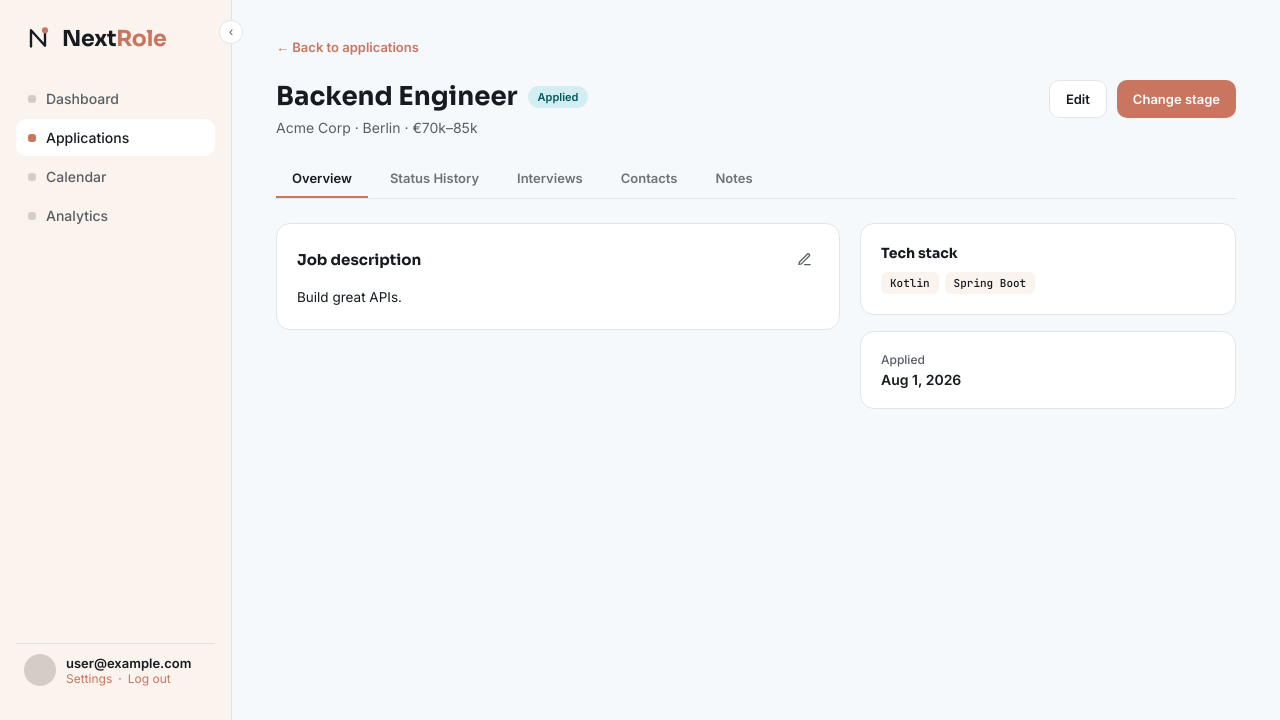
ApplicationDetailPage › edits the job description inline from the overview tab
The image size is (1280, 720).
Expected: the heading "Backend Engineer" is shown, [276, 80, 518, 113]
Click the button named "Edit" at {"x": 804, "y": 259}, box [789, 244, 819, 274]
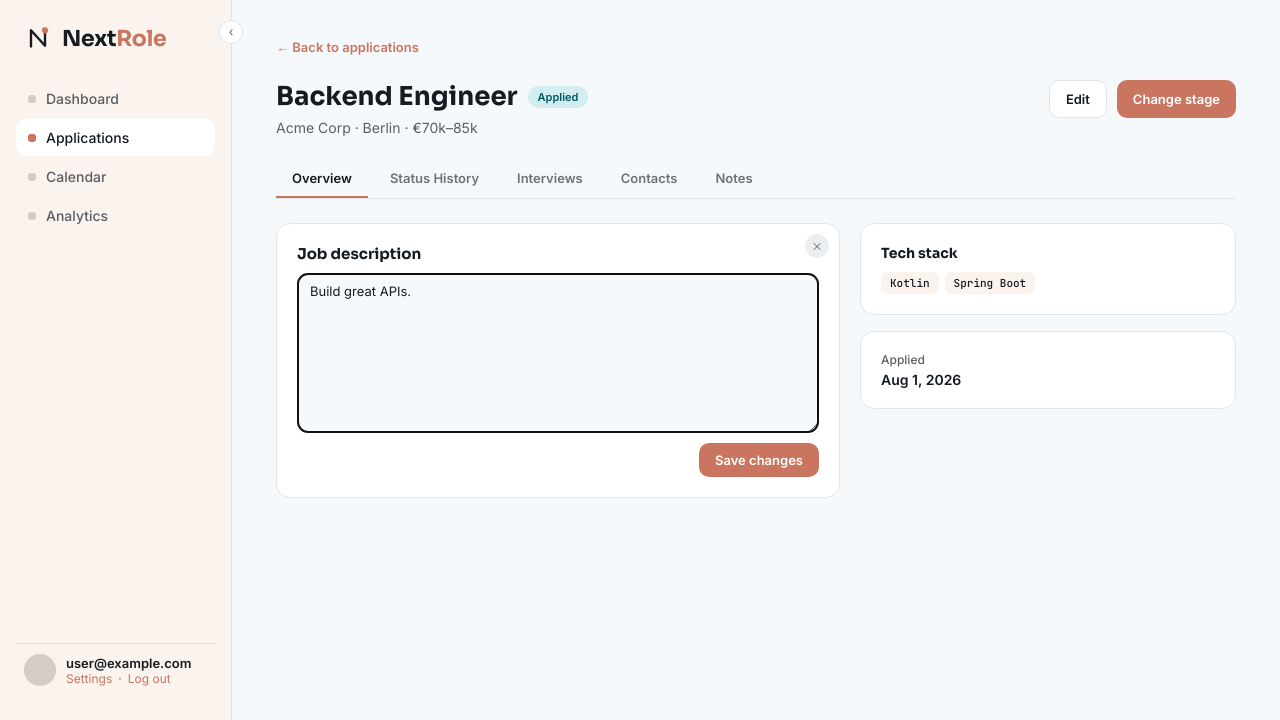
Replace the text in the text box showing "Build great APIs." with "Build great APIs, remotely." at {"x": 558, "y": 353}, box [297, 273, 819, 433]
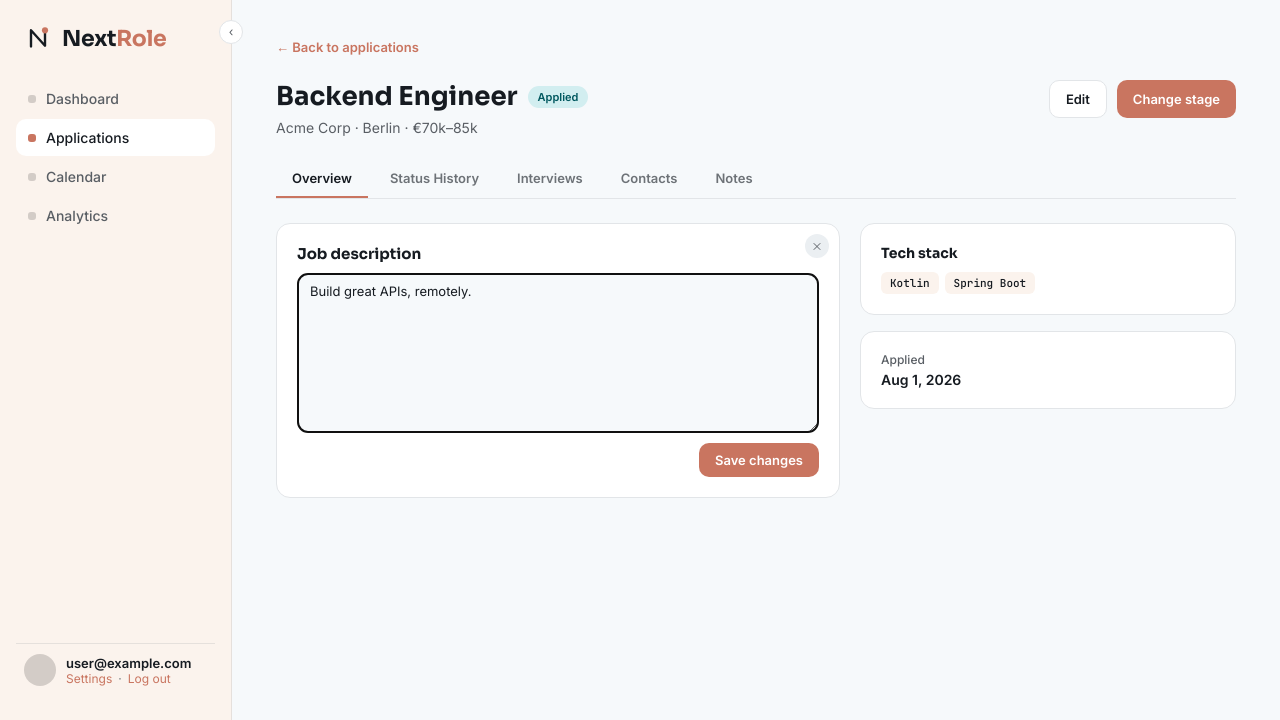
Click the button "Save changes" at {"x": 759, "y": 460}, box [699, 443, 819, 477]
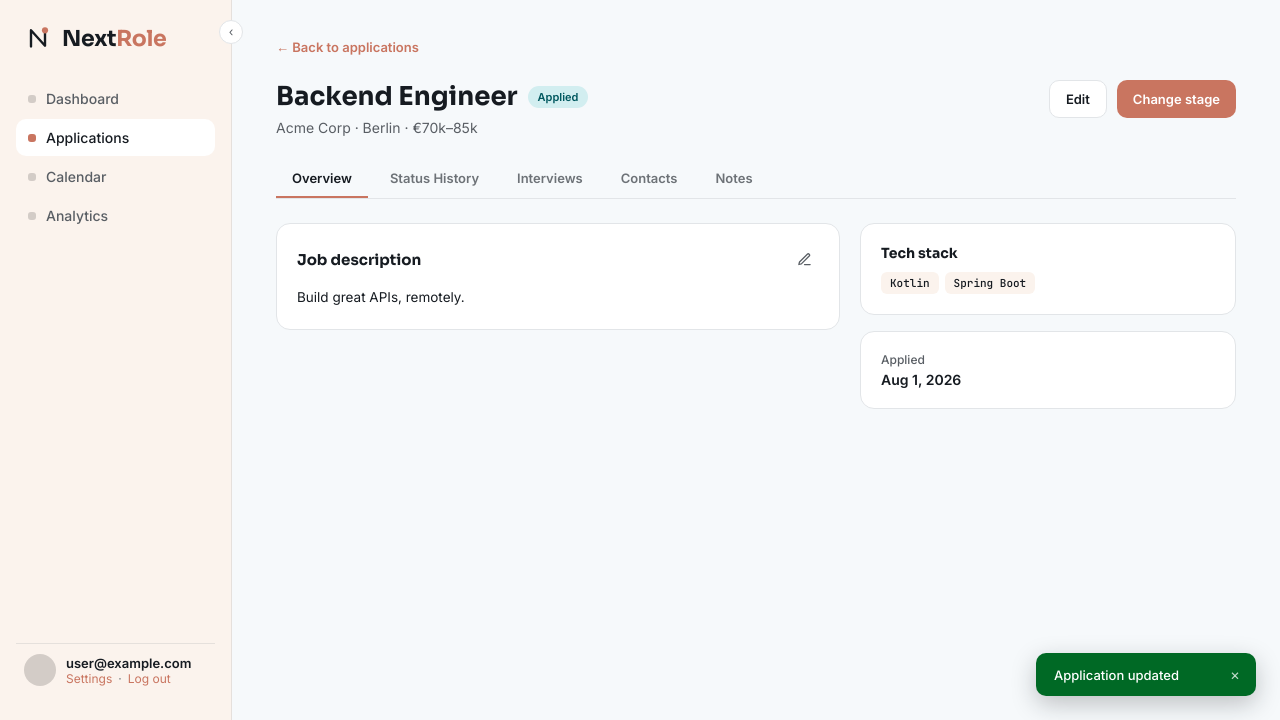
Expected: the text "Build great APIs, remotely." is shown, [297, 289, 465, 305]
